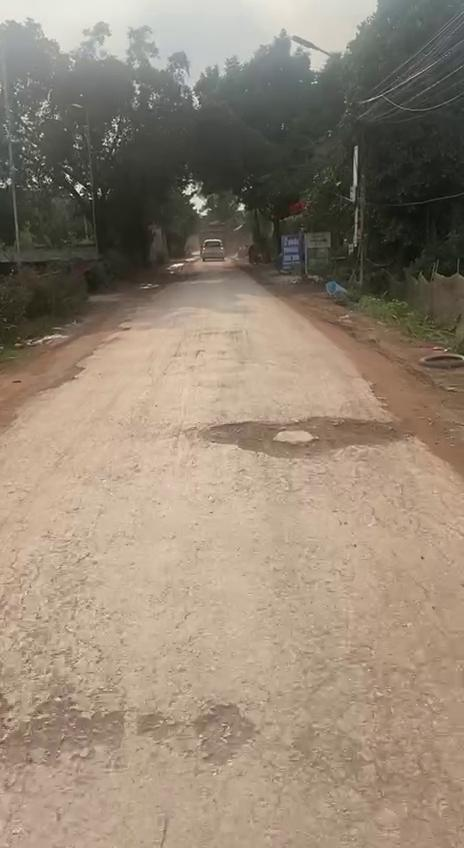pothole: (0, 686, 151, 779), (200, 413, 412, 463)
